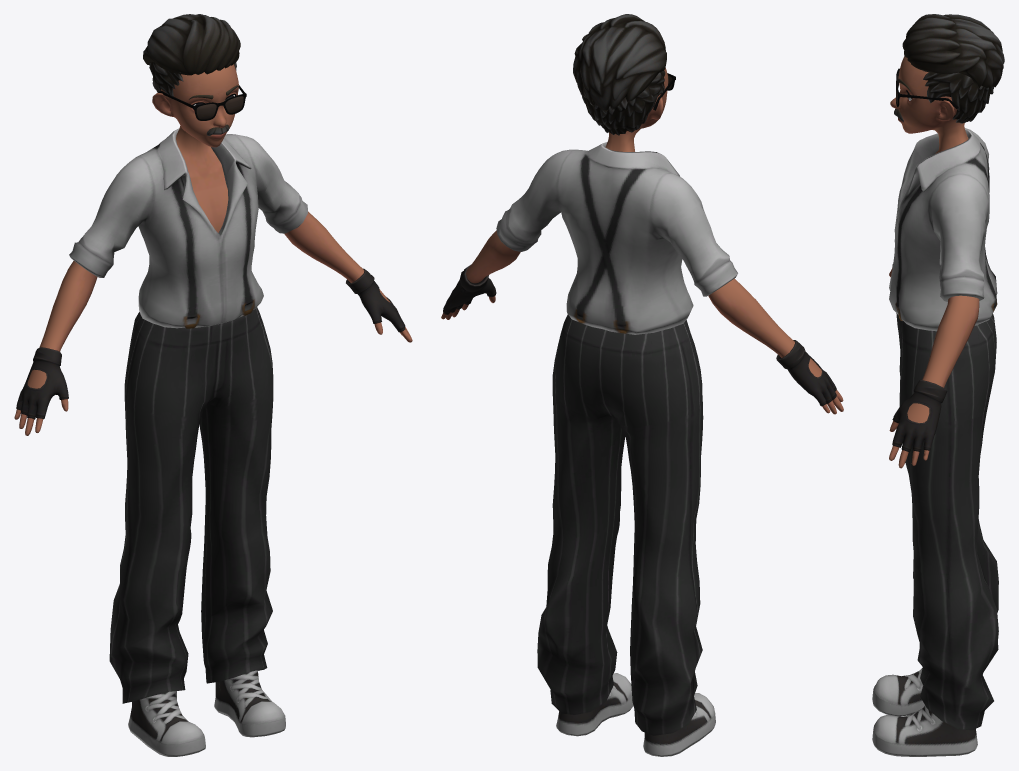
File: StaffMexicanMan_Mesh.obj
3 views of the same model, side by side, from view 1: azimuth 30°, elevation 25°; view 2: azimuth 150°, elevation 25°; view 3: azimuth 270°, elevation 25° (orthographic).
Visible parts, largest first — view 1: StaffMexicanMan_Mesh_0; view 2: StaffMexicanMan_Mesh_0; view 3: StaffMexicanMan_Mesh_0.
Boxes of the visible parts, box(x1,y1,x2,y2) form: StaffMexicanMan_Mesh_0: box(14, 14, 412, 756); StaffMexicanMan_Mesh_0: box(441, 14, 843, 756); StaffMexicanMan_Mesh_0: box(872, 14, 1004, 756).
Size of the model in its own units: 1.06 by 1.84 by 0.3103.
Materials: 1 (1 with a texture image).
